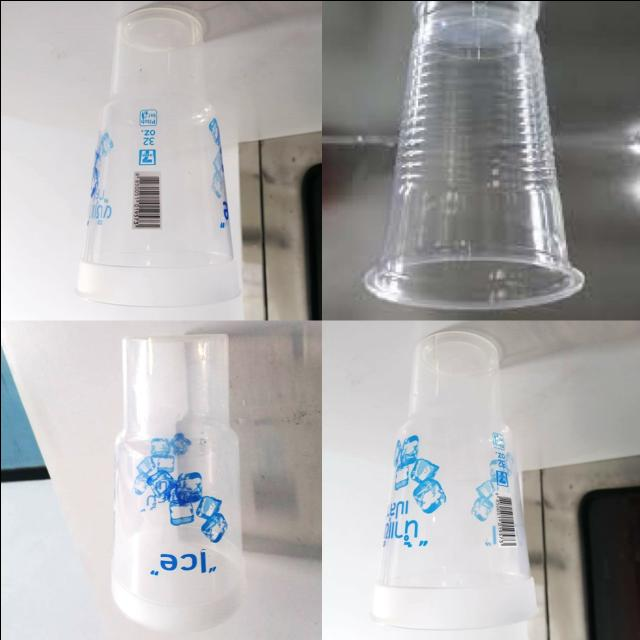plastik: (363, 0, 583, 308), (370, 330, 536, 629), (76, 6, 239, 306), (111, 333, 246, 630)
